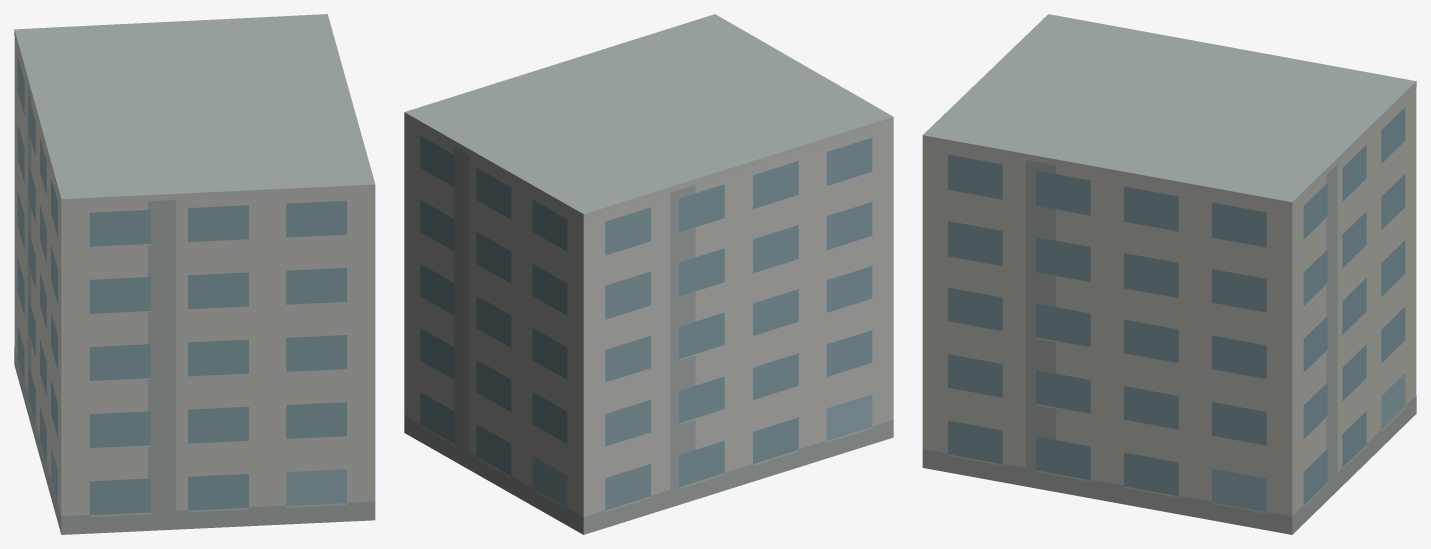
File: survey-upis-32956088.glb
The picture shows the model from 3 angles, left to right: view 1: azimuth 30°, elevation 25°; view 2: azimuth 150°, elevation 25°; view 3: azimuth 270°, elevation 25°; orthographic projection. The views are drawn at different scales.
Visible parts, largest first — view 1: survey-upis-32956088.tmp; view 2: survey-upis-32956088.tmp; view 3: survey-upis-32956088.tmp.
Boxes of the visible parts, <box> form: survey-upis-32956088.tmp: <box>14,14,375,534</box>; survey-upis-32956088.tmp: <box>404,14,893,534</box>; survey-upis-32956088.tmp: <box>922,14,1416,534</box>.
Size of the model in its own units: 16.15 by 13.3 by 17.9.
